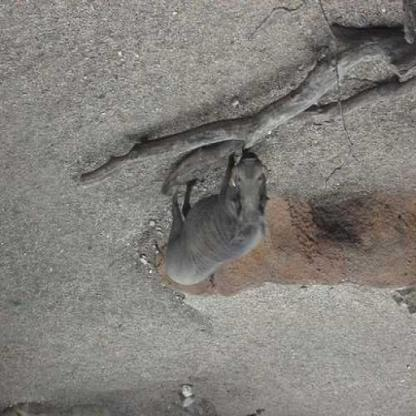boar: (157, 164, 302, 324)
